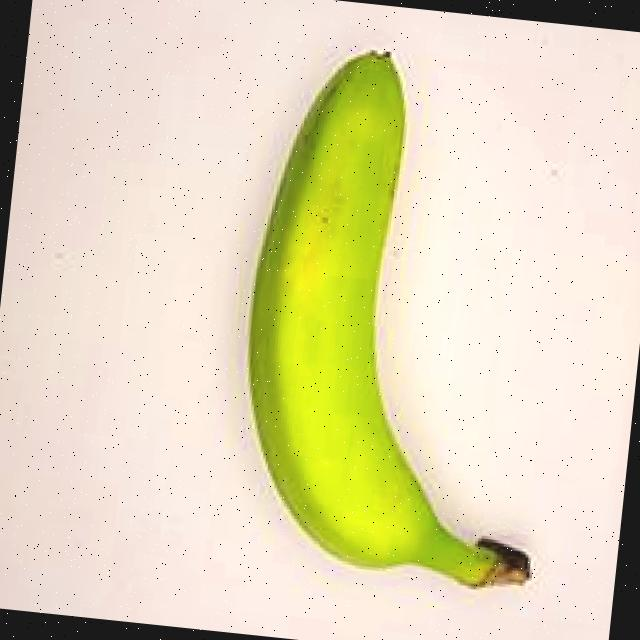Unripe: (180, 26, 612, 624)
